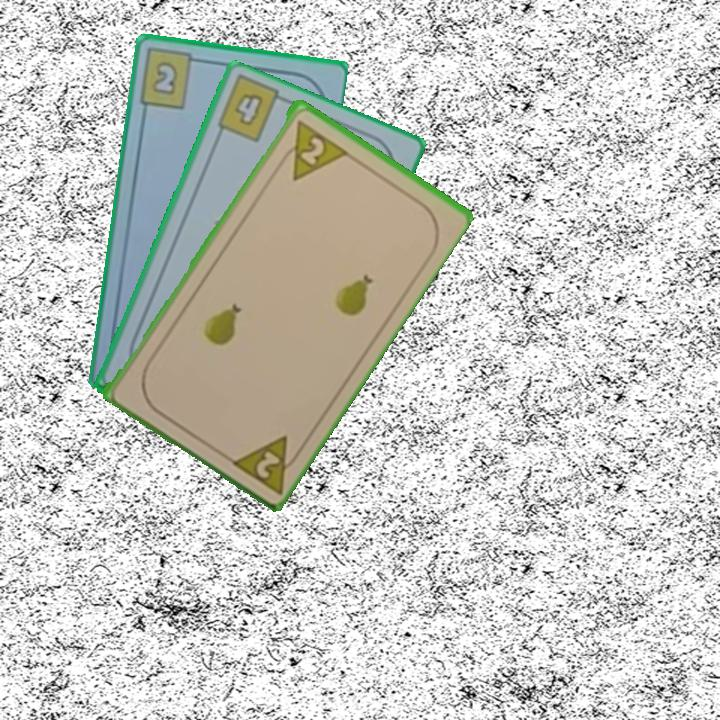2b: (135, 45, 207, 112)
2p: (225, 430, 307, 496), (274, 115, 349, 183)
4b: (230, 89, 266, 129)
